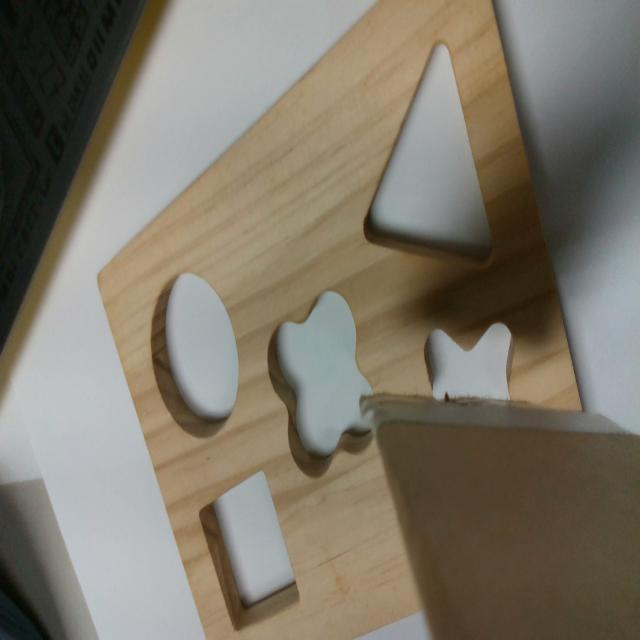circle: (152, 274, 240, 441)
flower: (267, 288, 379, 477)
square: (196, 468, 301, 632)
star: (425, 323, 513, 399)
triangle: (361, 42, 496, 273)
